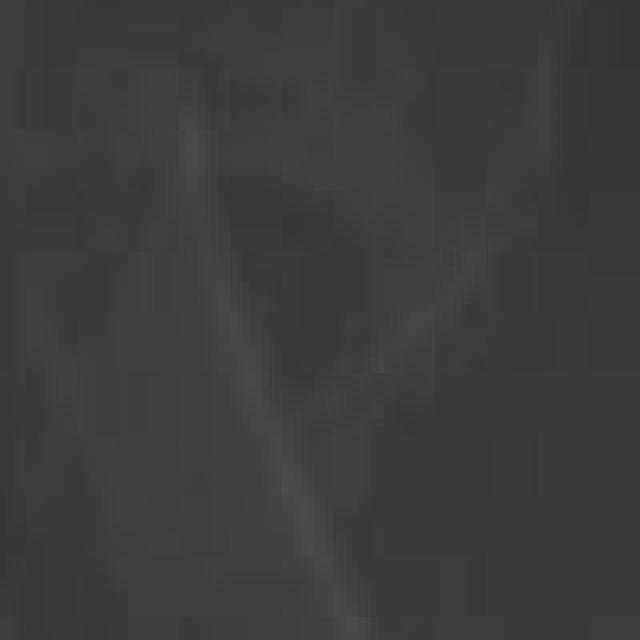fracture: (3, 6, 640, 640)
